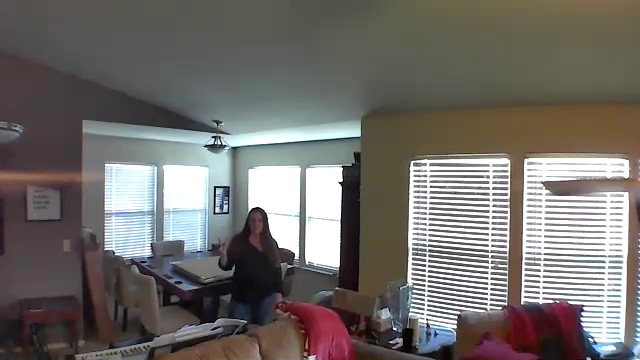peace: (212, 233, 235, 263)
